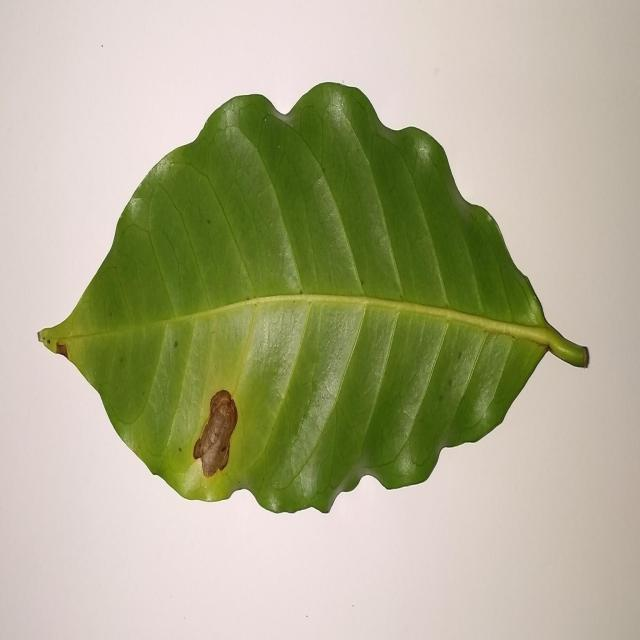phoma: (192, 389, 238, 478)
